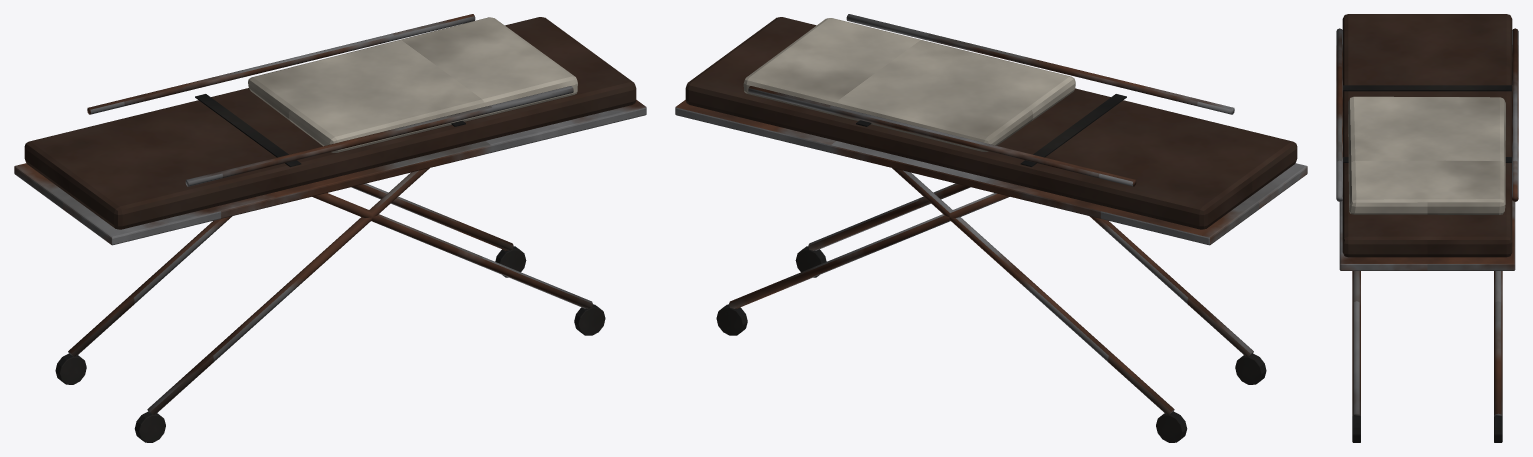
Rendered from H04_stretcher_trolley.glb.
3 renders of one model, left to right at view 1: azimuth 30°, elevation 25°; view 2: azimuth 150°, elevation 25°; view 3: azimuth 270°, elevation 25°, orthographic. The views are drawn at different scales.
Parts seen in each view (by area): view 1: H04_stretcher_trolley; view 2: H04_stretcher_trolley; view 3: H04_stretcher_trolley.
Part boxes in pixels (x1,y1,x2,y2): H04_stretcher_trolley: (14,14,646,442); H04_stretcher_trolley: (675,14,1307,442); H04_stretcher_trolley: (1336,14,1518,442).
Size of the model in its own units: 2 by 0.9371 by 0.6605.
Materials: 5 (5 with a texture image).
